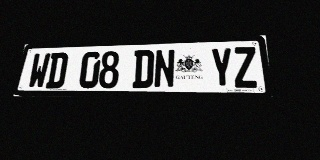0: (78, 51, 101, 88)
8: (98, 51, 121, 88)
D: (45, 52, 69, 88), (132, 50, 154, 88)
N: (153, 49, 175, 88)
W: (27, 53, 51, 88)
Y: (210, 47, 234, 88)
Z: (232, 47, 259, 88)
